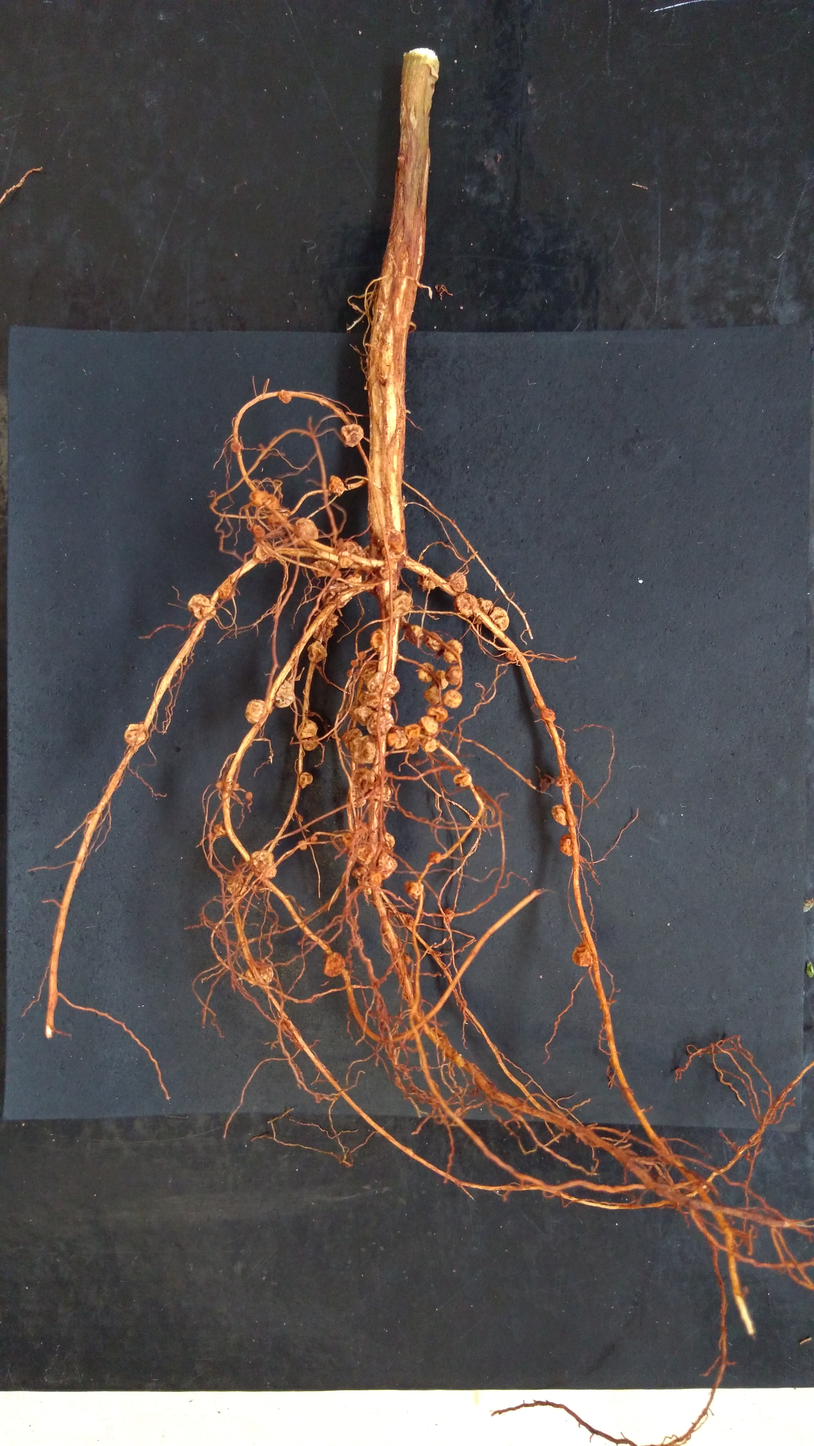nodule: (250, 849, 281, 881), (366, 671, 402, 697), (346, 734, 376, 765), (186, 592, 218, 621), (383, 589, 413, 619), (569, 939, 596, 971), (242, 962, 275, 988), (365, 709, 396, 736), (340, 540, 367, 570), (294, 515, 323, 542), (320, 951, 346, 981), (548, 801, 573, 832), (452, 592, 480, 619), (121, 721, 150, 747), (376, 850, 400, 881), (440, 637, 465, 666), (487, 604, 511, 634), (339, 422, 365, 449), (273, 679, 295, 709), (556, 831, 578, 860), (358, 690, 391, 709), (401, 623, 424, 650), (309, 558, 339, 578), (243, 698, 266, 724), (368, 627, 389, 655), (352, 844, 376, 867), (402, 879, 425, 903), (249, 490, 278, 509), (350, 705, 375, 727), (327, 474, 348, 499), (307, 639, 328, 664), (445, 571, 470, 592), (417, 715, 439, 738), (440, 688, 463, 710), (340, 728, 363, 749), (385, 729, 408, 750), (225, 869, 244, 894), (438, 906, 459, 928), (296, 718, 319, 738), (424, 705, 449, 723), (415, 661, 435, 683), (423, 630, 443, 652), (422, 683, 441, 705), (218, 583, 240, 602), (312, 624, 335, 642), (476, 593, 494, 615), (421, 737, 442, 755), (452, 771, 473, 789), (444, 664, 461, 686), (300, 734, 320, 752), (538, 705, 556, 725), (403, 723, 422, 740), (434, 670, 450, 690), (298, 770, 314, 789), (267, 513, 288, 527), (250, 522, 266, 540), (350, 867, 369, 882), (277, 388, 293, 405), (323, 613, 340, 628), (384, 831, 397, 849), (229, 439, 245, 453), (338, 556, 355, 569), (428, 850, 442, 865), (212, 823, 226, 837), (379, 565, 391, 580), (357, 650, 369, 661), (297, 839, 308, 851), (245, 790, 253, 801), (350, 659, 360, 667), (310, 835, 320, 843), (346, 669, 353, 677), (233, 782, 240, 789)
